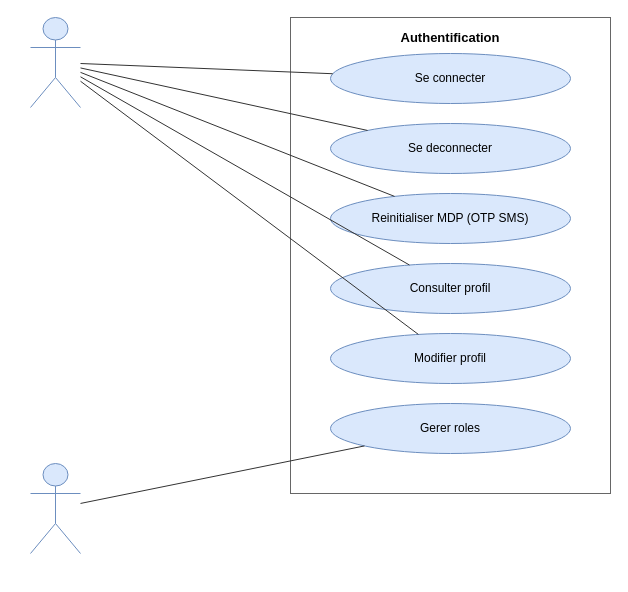
Image size: 628x592. Some labels were removed from this diagram. The centre of each missing label's shape, as x and y in pixels:
Administrateur: (x=55, y=508)
Utilisateur: (x=55, y=62)
